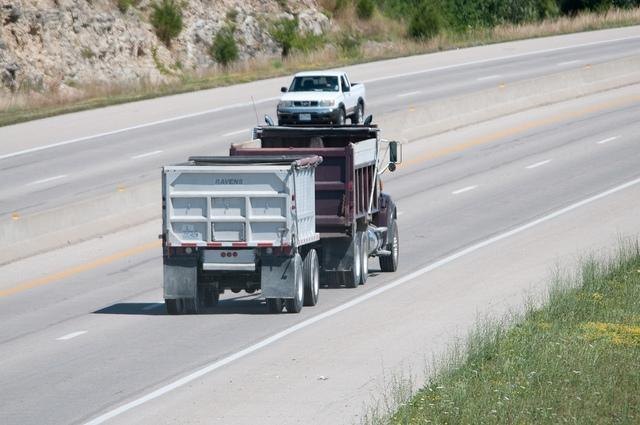truck: (161, 121, 402, 317), (276, 70, 367, 124)
